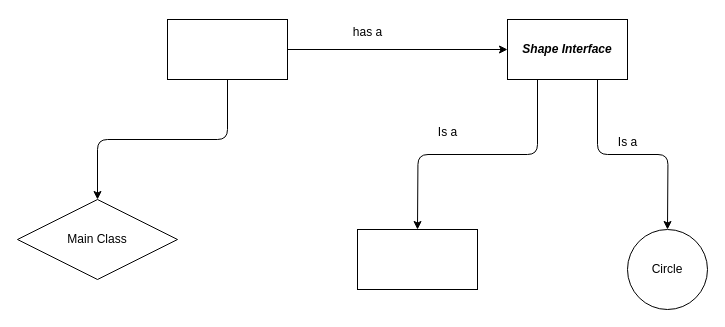
Image size: 725x327. Some labels were removed from this diagram. The centre of each missing label's shape, as x and y in pixels:
"Rectangle" belongs at (417,259).
"Shape Fcatory" belongs at (227,49).
